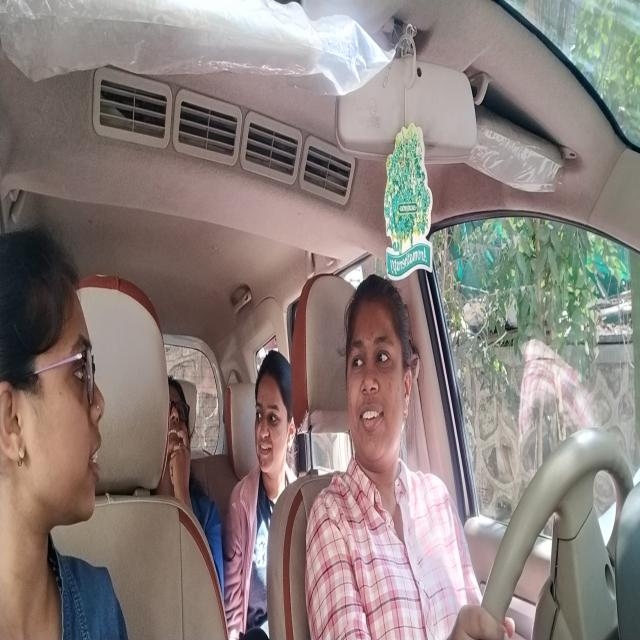LeftRight: (344, 268, 414, 482)
person: (2, 223, 108, 555), (254, 348, 298, 481), (166, 370, 194, 497)
talking: (360, 396, 387, 438), (89, 443, 105, 492)
